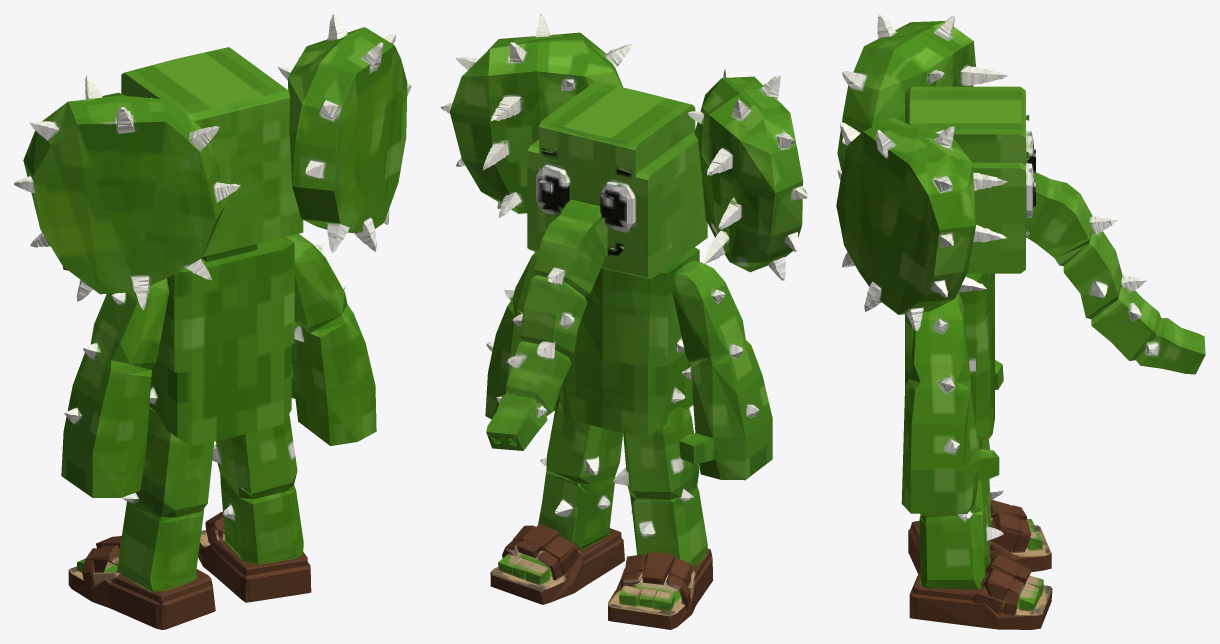
File: LiriliLarila.glb
3 views of the same model, side by side, from view 1: azimuth 30°, elevation 25°; view 2: azimuth 150°, elevation 25°; view 3: azimuth 270°, elevation 25° (orthographic). The views are drawn at different scales.
Visible parts, largest first — view 1: geometry_0; view 2: geometry_0; view 3: geometry_0.
Part boxes in pixels (x1,y1,x2,y2): geometry_0: (14, 14, 411, 629); geometry_0: (440, 14, 807, 629); geometry_0: (836, 14, 1205, 629).
Bounding box in the file's own units: 0.7564 × 1 × 0.6516.
Materials: 1 (1 with a texture image).
